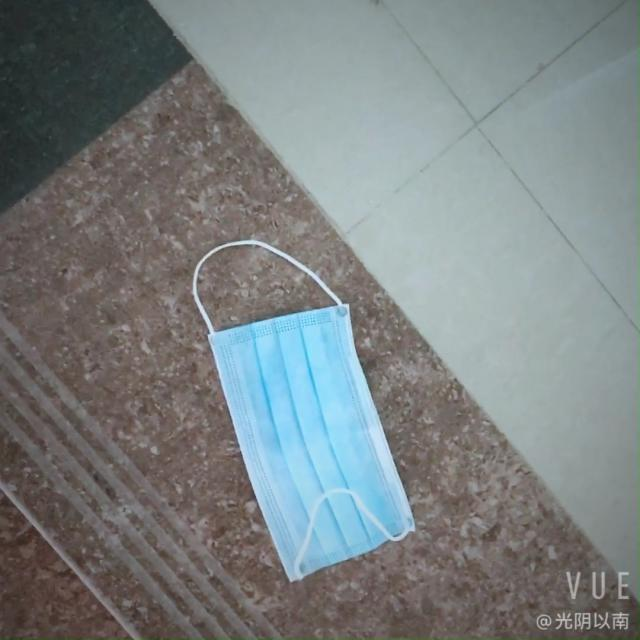face mask: (192, 264, 416, 592)
